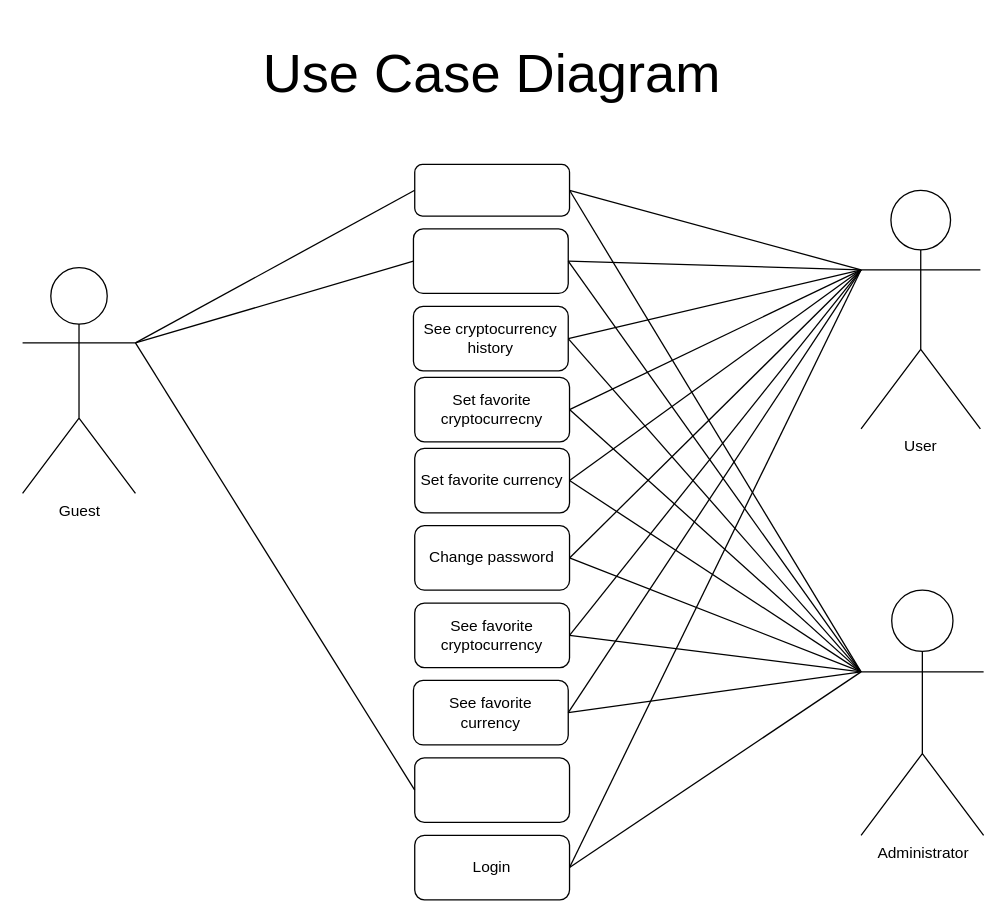
Some shapes in this 1006 by 922 pixel diagram are drawn without their labels. Here are the shapes that lost their labels. From the top down, the centre of each, then its label:
(491,189): See list of cryptocurrencies
(490,260): Convert cryptocurrency to chosen currency
(491,789): Sign up
